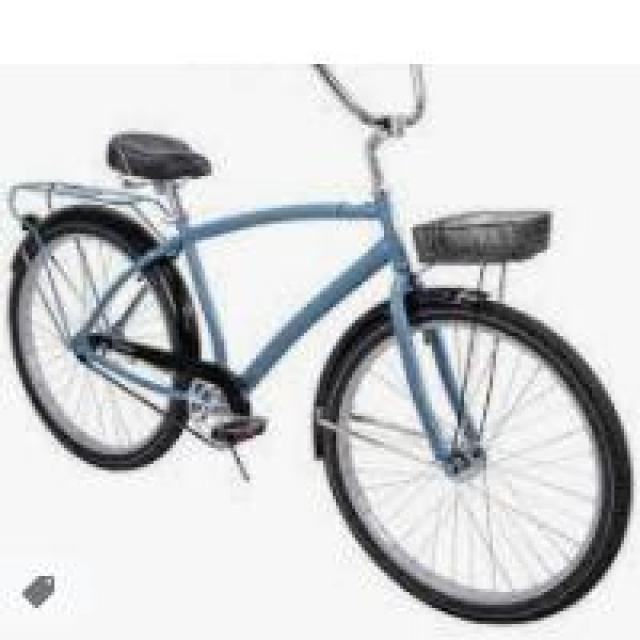bicycle: (11, 75, 626, 606)
